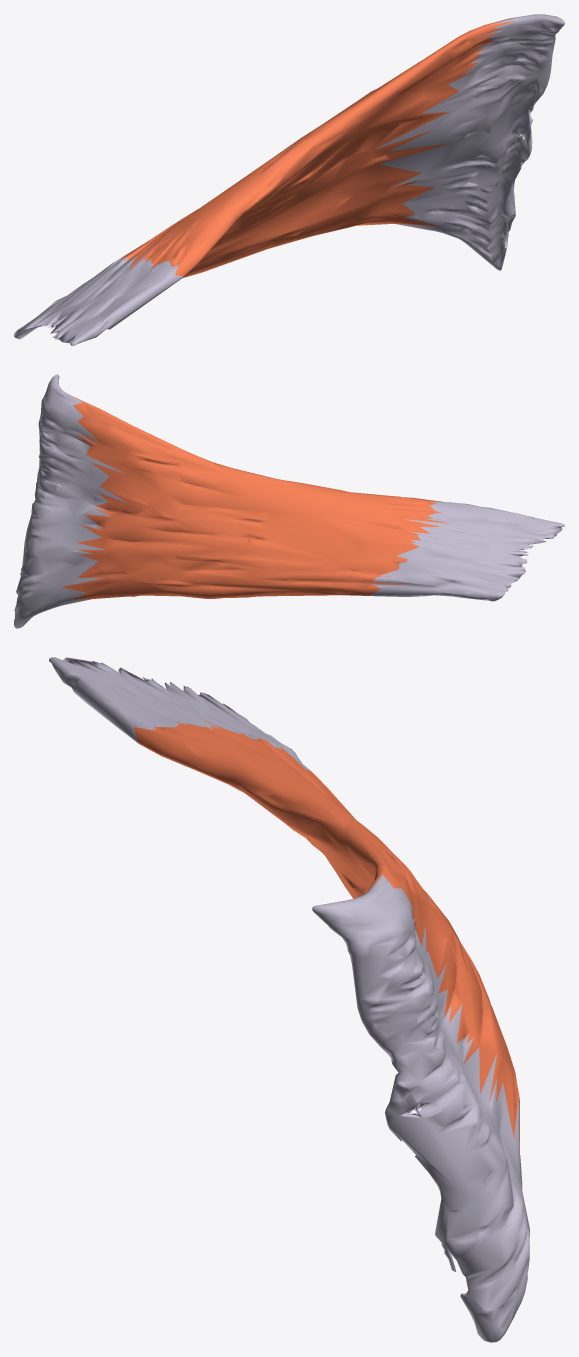
File: Transverse_part_of_trapezius_muscle.r_Generated_Mesh_From_X3D.1.glb
The picture shows the model from 3 angles, top to bottom: view 1: azimuth 30°, elevation 25°; view 2: azimuth 150°, elevation 25°; view 3: azimuth 270°, elevation 25°; orthographic projection. The views are drawn at different scales.
Parts seen in each view (by area): view 1: Transverse_part_of_trapezius_muscle.r_Generated_Mesh_From_X3; view 2: Transverse_part_of_trapezius_muscle.r_Generated_Mesh_From_X3; view 3: Transverse_part_of_trapezius_muscle.r_Generated_Mesh_From_X3.
Part boxes in pixels (left/top/right/bottom): Transverse_part_of_trapezius_muscle.r_Generated_Mesh_From_X3: left=14, top=14, right=564, bottom=345; Transverse_part_of_trapezius_muscle.r_Generated_Mesh_From_X3: left=14, top=374, right=564, bottom=628; Transverse_part_of_trapezius_muscle.r_Generated_Mesh_From_X3: left=49, top=657, right=529, bottom=1342.
Size of the model in its own units: 0.1724 by 0.0812 by 0.0801.
